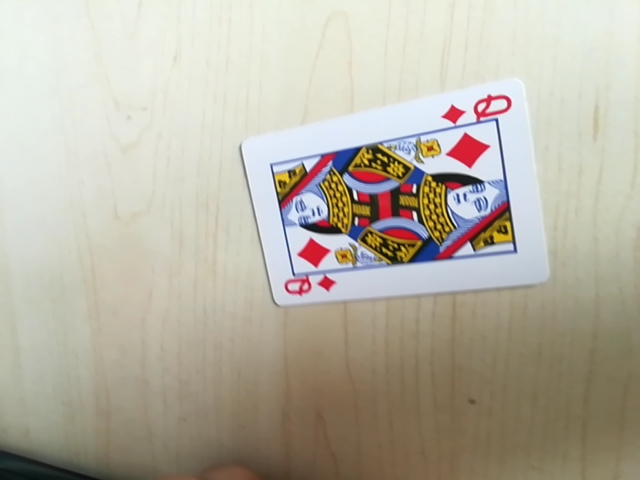fk q: (439, 89, 516, 128), (279, 269, 338, 305)
